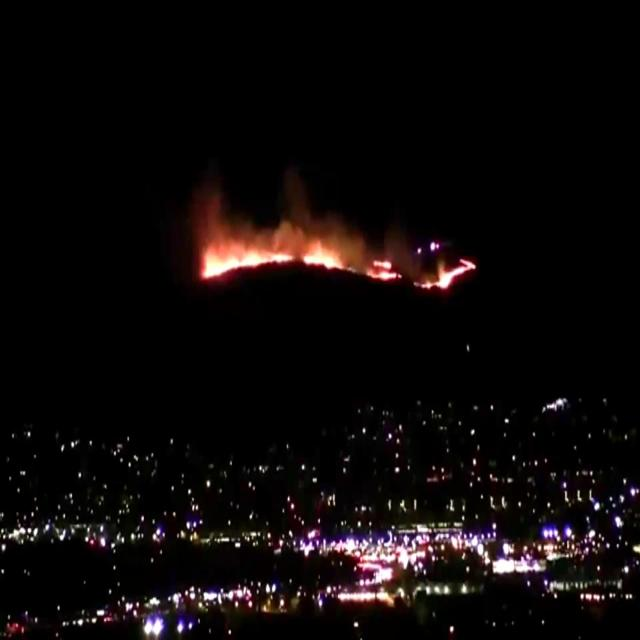Fire: (202, 240, 294, 283), (418, 258, 477, 291), (304, 240, 344, 272), (367, 256, 401, 286)
